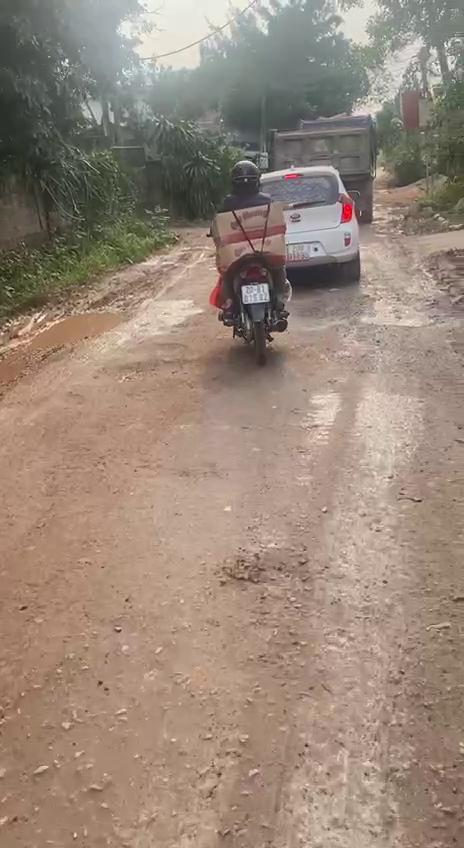pothole: (0, 299, 139, 392)
